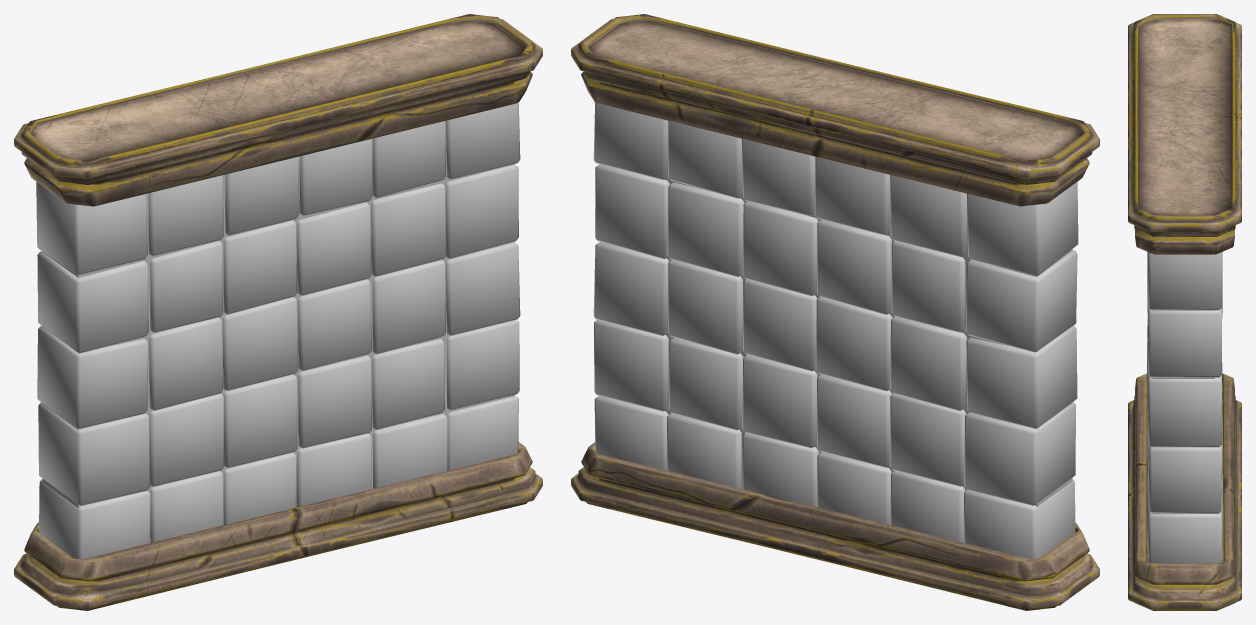
File: WALL_ROCK.FBX
3 renders of one model, left to right at view 1: azimuth 30°, elevation 25°; view 2: azimuth 150°, elevation 25°; view 3: azimuth 270°, elevation 25°, orthographic. The views are drawn at different scales.
Parts seen in each view (by area): view 1: ROCKS_3x3_LOW; view 2: ROCKS_3x3_LOW; view 3: ROCKS_3x3_LOW.
Part boxes in pixels (box(x1,y1,x2,y2)): ROCKS_3x3_LOW: box(14, 14, 542, 610); ROCKS_3x3_LOW: box(571, 14, 1099, 610); ROCKS_3x3_LOW: box(1128, 14, 1241, 610).
Bounding box in the file's own units: 135 × 118 × 30.84.
